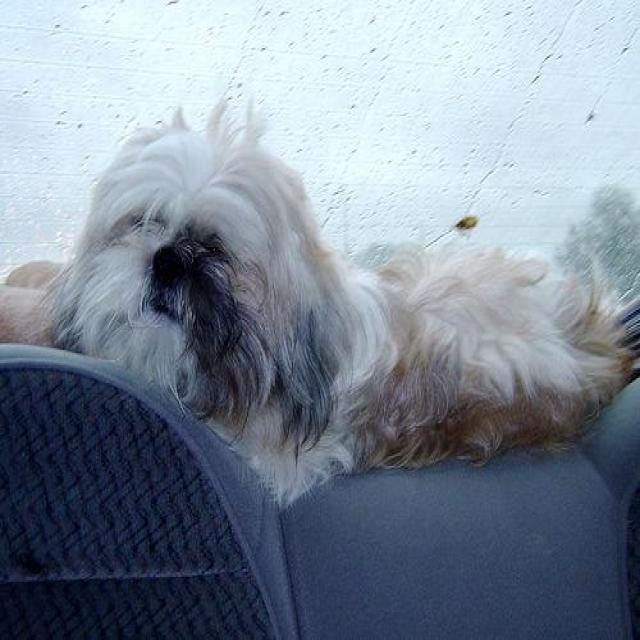shih_tzu: (0, 91, 639, 514)
